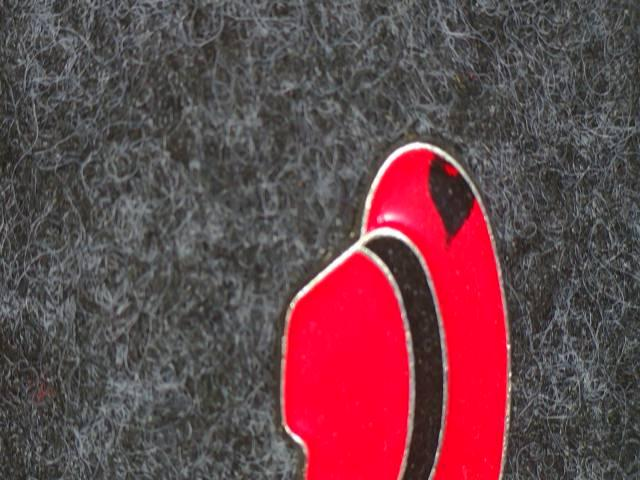Red-Hat: (222, 105, 557, 480)
Scratch: (406, 132, 495, 258)
